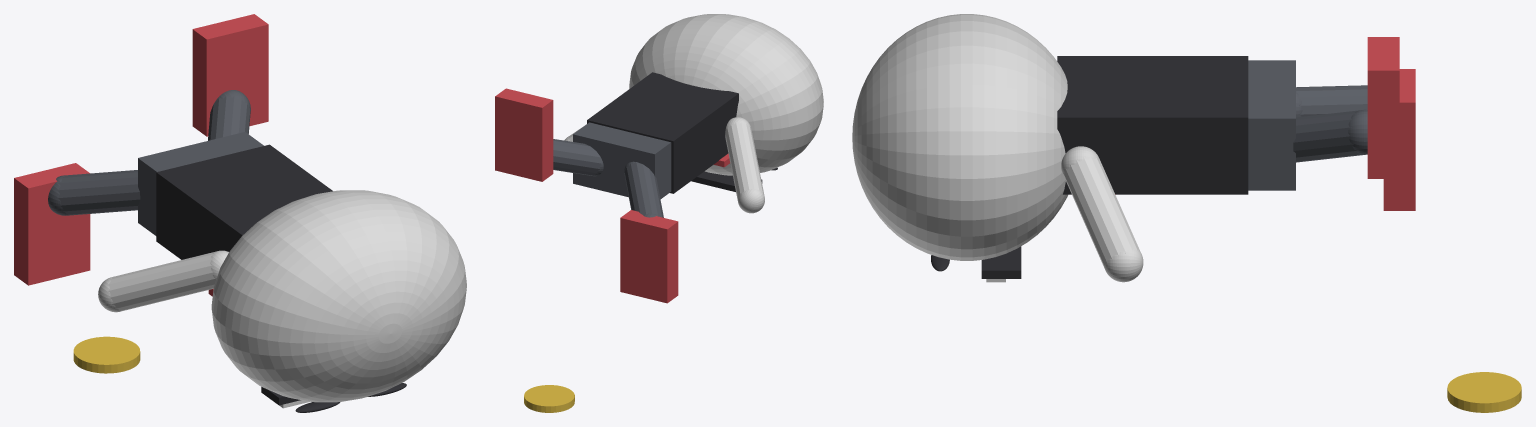
File: character_trollface_runner.glb
3 views of the same model, side by side, from view 1: azimuth 30°, elevation 25°; view 2: azimuth 150°, elevation 25°; view 3: azimuth 270°, elevation 25° (orthographic). The views are drawn at different scales.
Parts seen in each view (by area): view 1: head, torso, right_shoe, left_shoe, left_arm, left_leg, hips, coin_chain, right_leg; view 2: head, torso, right_shoe, left_shoe, hips, left_arm, left_leg, right_leg, coin_chain, mouth_black; view 3: head, torso, hips, right_arm, right_shoe, right_leg, left_shoe, coin_chain, left_leg, mouth_black.
Boxes of the visible parts, bbox=[...] form: head: bbox=[211, 190, 466, 402]; torso: bbox=[156, 144, 332, 259]; right_shoe: bbox=[192, 14, 268, 136]; left_shoe: bbox=[14, 163, 90, 285]; left_arm: bbox=[98, 250, 228, 312]; left_leg: bbox=[48, 170, 140, 215]; hips: bbox=[138, 132, 263, 235]; coin_chain: bbox=[73, 336, 140, 373]; right_leg: bbox=[208, 90, 250, 140]; head: bbox=[629, 14, 823, 175]; torso: bbox=[587, 72, 738, 193]; right_shoe: bbox=[495, 88, 553, 181]; left_shoe: bbox=[620, 210, 678, 303]; hips: bbox=[573, 122, 671, 199]; left_arm: bbox=[725, 117, 764, 213]; left_leg: bbox=[624, 161, 663, 217]; right_leg: bbox=[553, 139, 603, 176]; coin_chain: bbox=[524, 385, 574, 412]; mouth_black: bbox=[691, 171, 762, 191]; head: bbox=[852, 14, 1067, 260]; torso: bbox=[1057, 56, 1248, 194]; hips: bbox=[1248, 60, 1295, 190]; right_arm: bbox=[1061, 146, 1143, 282]; right_shoe: bbox=[1367, 37, 1399, 178]; right_leg: bbox=[1293, 109, 1367, 162]; left_shoe: bbox=[1383, 69, 1415, 210]; coin_chain: bbox=[1447, 372, 1521, 412]; left_leg: bbox=[1296, 85, 1367, 117]; mouth_black: bbox=[981, 246, 1021, 278].
Bounding box in the file's own units: 1.39 × 1.6 × 2.52.
